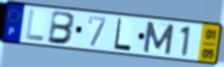1: (178, 26, 194, 57)
7: (86, 15, 107, 48)
B: (46, 9, 77, 46)
L: (24, 8, 46, 43), (112, 17, 132, 53)
M: (141, 20, 176, 56)
